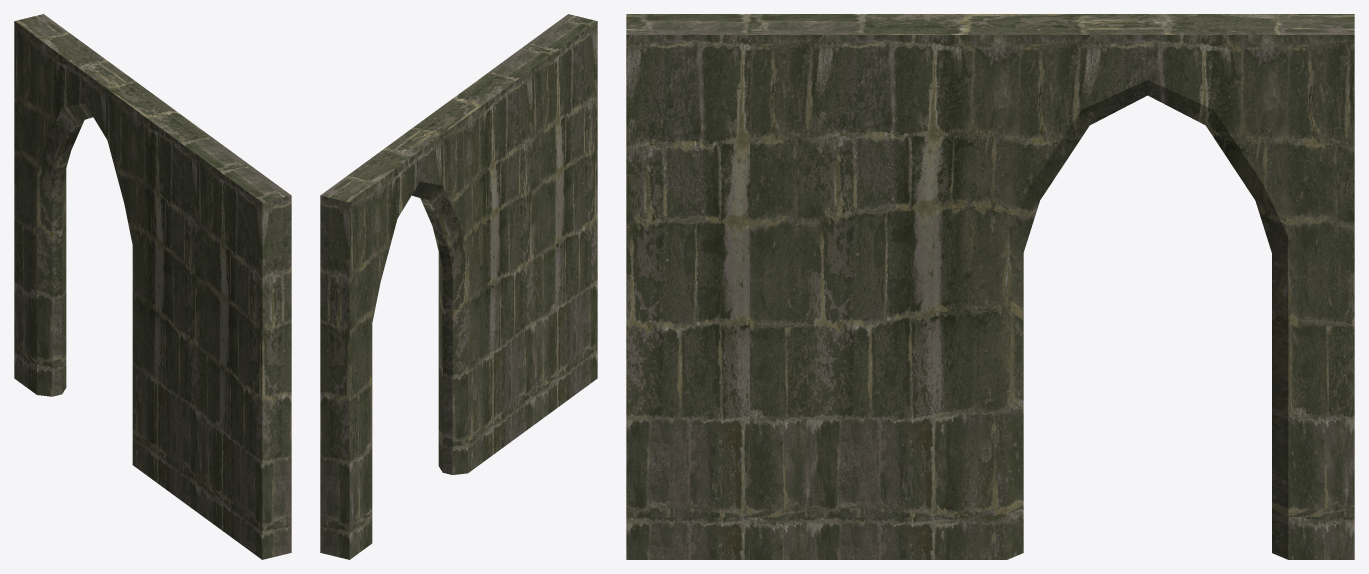
The model's file is Wall_Arch_R.fbx.
3 renders of one model, left to right at view 1: azimuth 30°, elevation 25°; view 2: azimuth 150°, elevation 25°; view 3: azimuth 270°, elevation 25°, orthographic. The views are drawn at different scales.
Visible parts, largest first — view 1: DoubleDoorway.002; view 2: DoubleDoorway.002; view 3: DoubleDoorway.002.
Boxes of the visible parts, x1,y1,x2,y2 form: DoubleDoorway.002: (14,14,291,559); DoubleDoorway.002: (320,14,597,559); DoubleDoorway.002: (626,14,1354,559).
Bounding box in the file's own units: 51 × 595 × 748.
